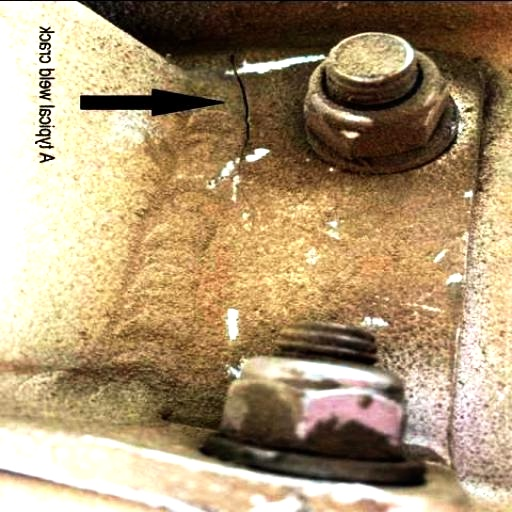crack: (101, 4, 364, 107)
